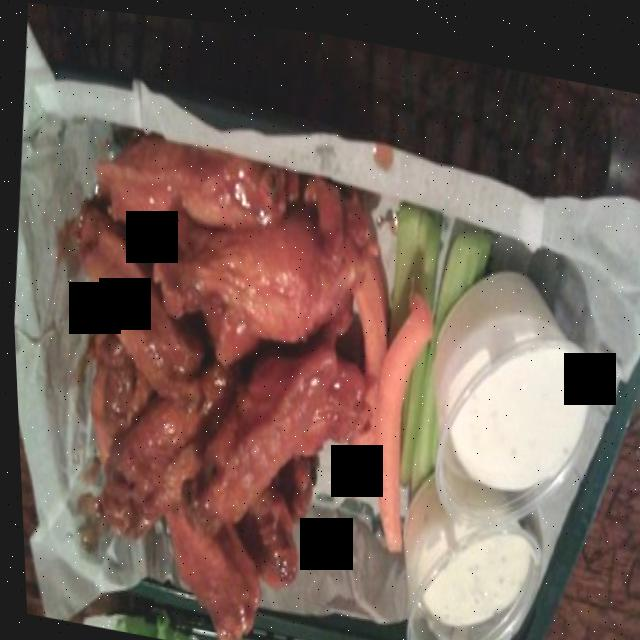Frango: (180, 304, 366, 548), (146, 170, 339, 341)
